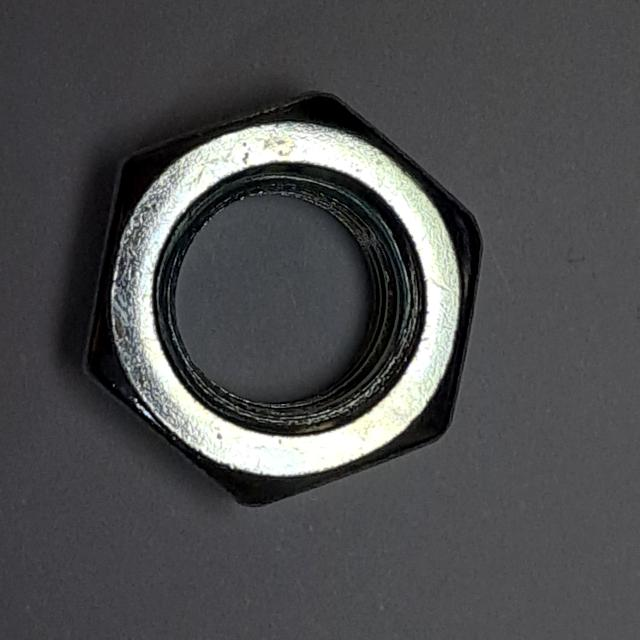Excellent: (75, 76, 496, 522)
